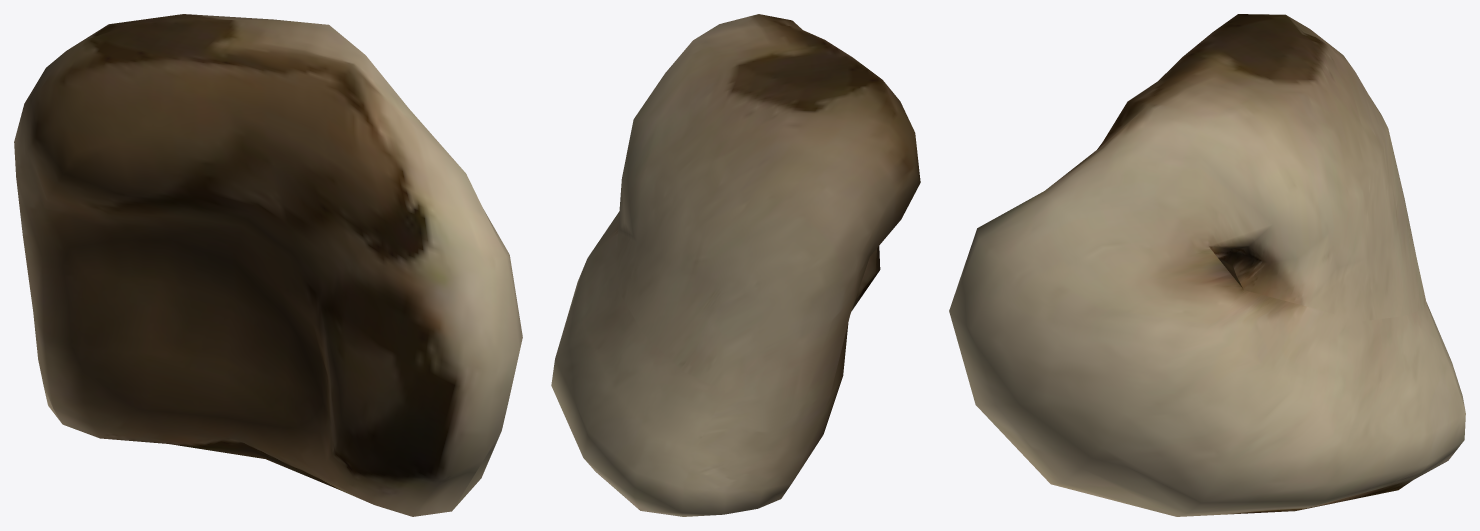
File: Distal_Carpal_I.glb
3 renders of one model, left to right at view 1: azimuth 30°, elevation 25°; view 2: azimuth 150°, elevation 25°; view 3: azimuth 270°, elevation 25°, orthographic. The views are drawn at different scales.
Parts seen in each view (by area): view 1: Distal_Carpal_I_Right1:Group38015; view 2: Distal_Carpal_I_Right1:Group38015; view 3: Distal_Carpal_I_Right1:Group38015.
Part boxes in pixels (x1,y1,x2,y2): Distal_Carpal_I_Right1:Group38015: [14, 14, 522, 516]; Distal_Carpal_I_Right1:Group38015: [551, 14, 920, 516]; Distal_Carpal_I_Right1:Group38015: [949, 14, 1465, 516].
Size of the model in its own units: 6.1 by 6.54 by 7.87.
1 material, 1 textured.
